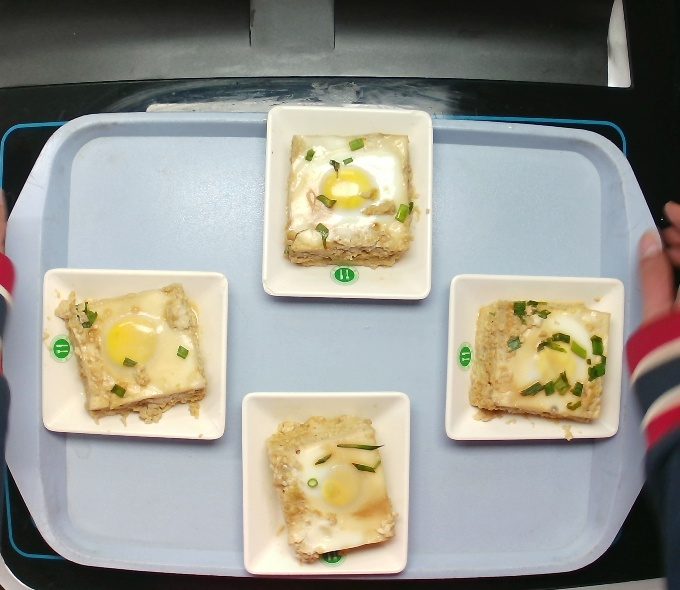wcq-RouMoZhengDan: (54, 273, 218, 436), (463, 279, 620, 441), (261, 404, 399, 566), (277, 127, 419, 278)
